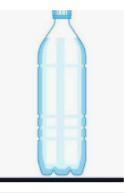bottle: (35, 7, 92, 178)
